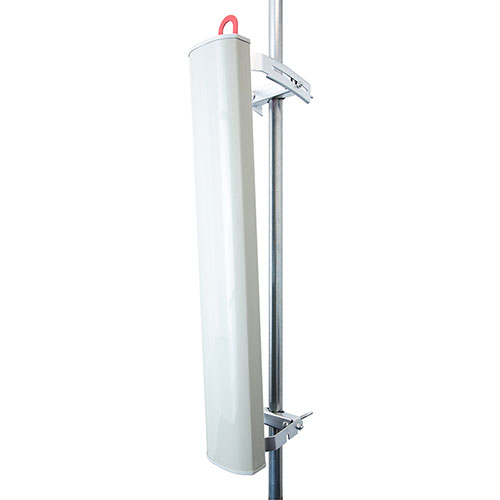sa: (167, 22, 320, 471)
